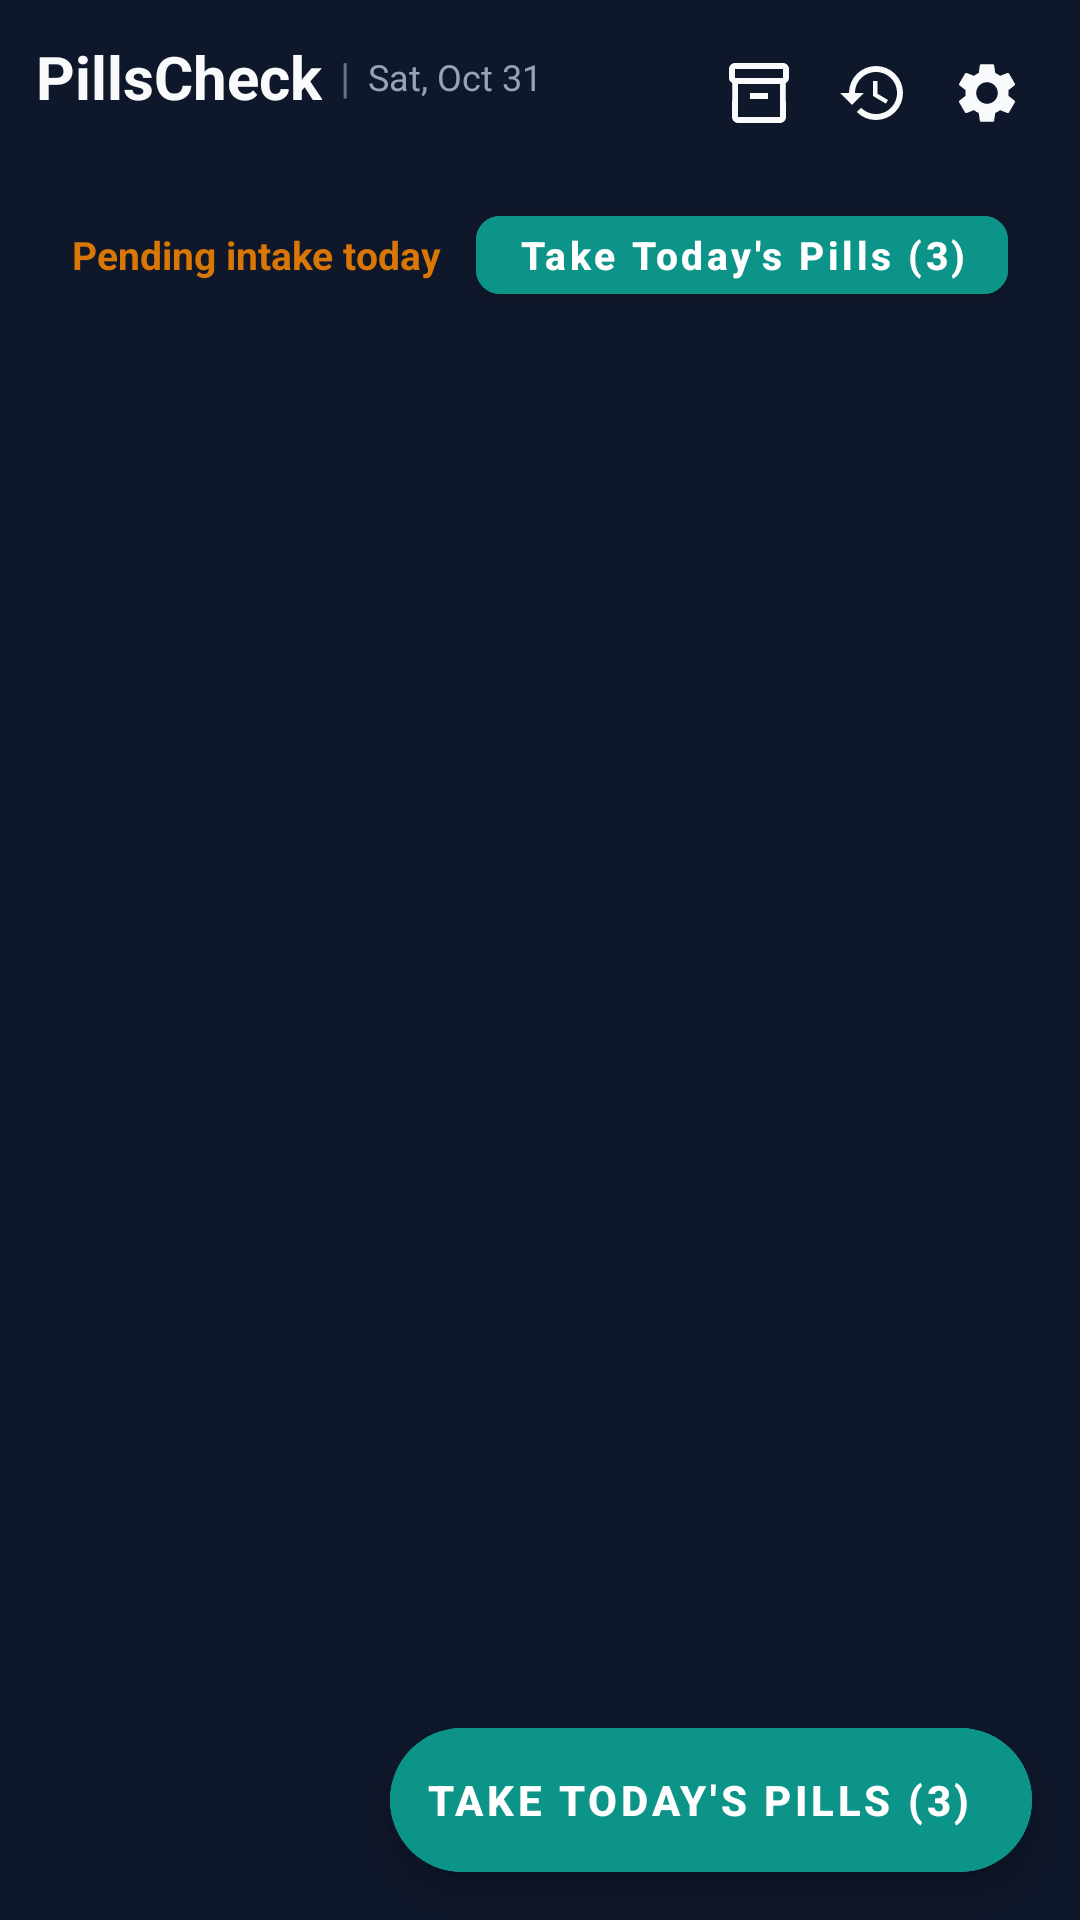

Icon bounding boxes for this 1080x1920 phone screenshot, format (x1, y1, x2, y2):
History: (840, 66, 903, 120)
Settings: (959, 64, 1015, 122)
Stock & Reserves: (729, 63, 789, 123)
